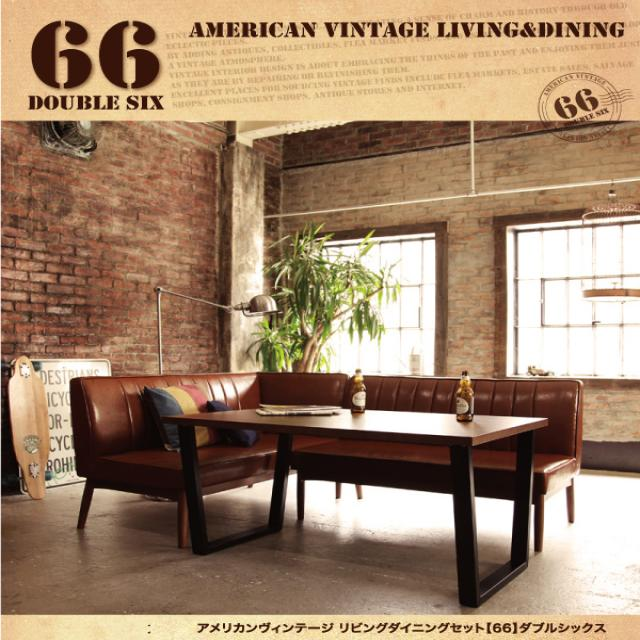vintage desk: (162, 404, 548, 608)
vintage sofa: (69, 369, 584, 552)
